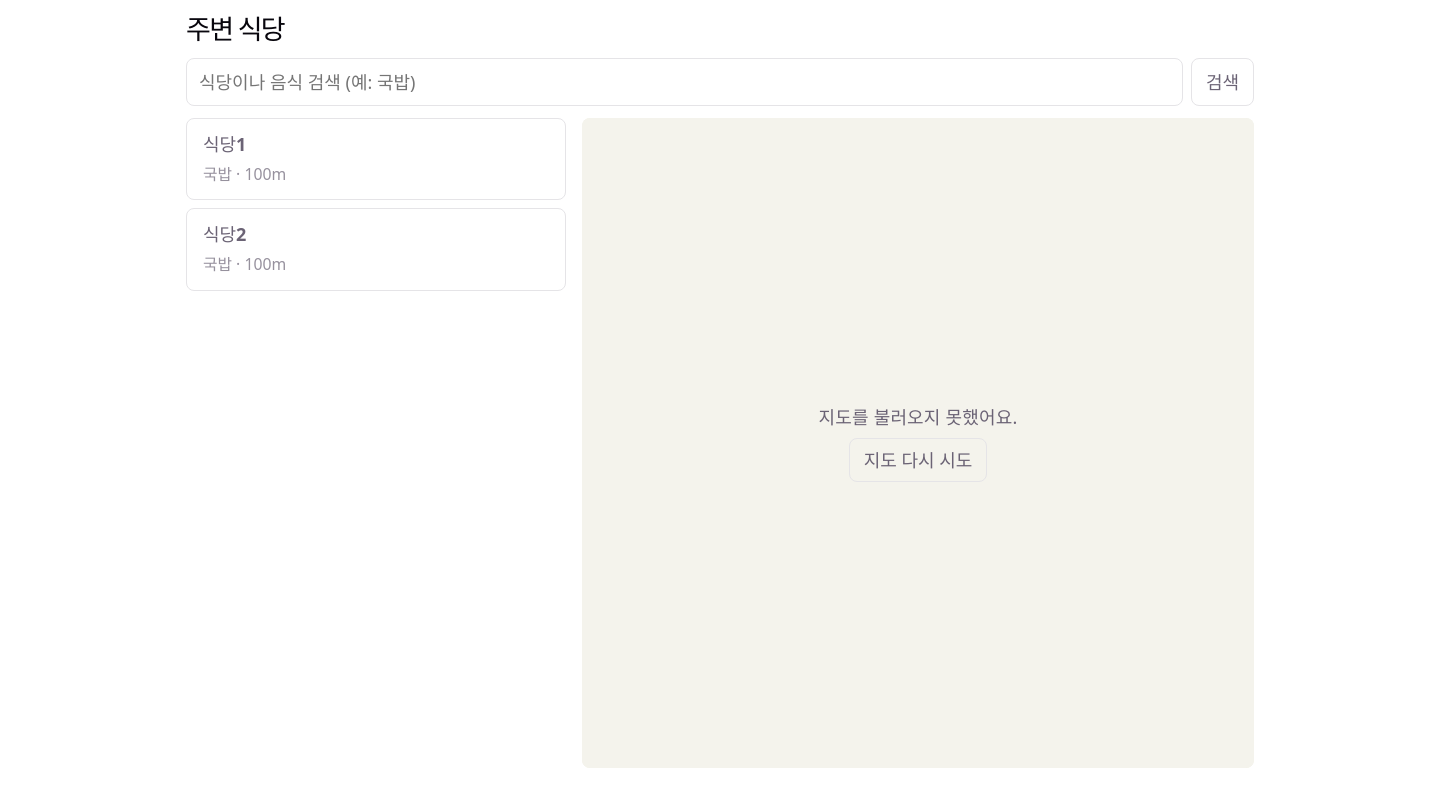
Test: App › 지도 다시 시도를 누르면 지도를 다시 불러오고 성공하면 마커를 표시한다
Click the button "지도 다시 시도" at point(918, 460), box [849,438,987,482]
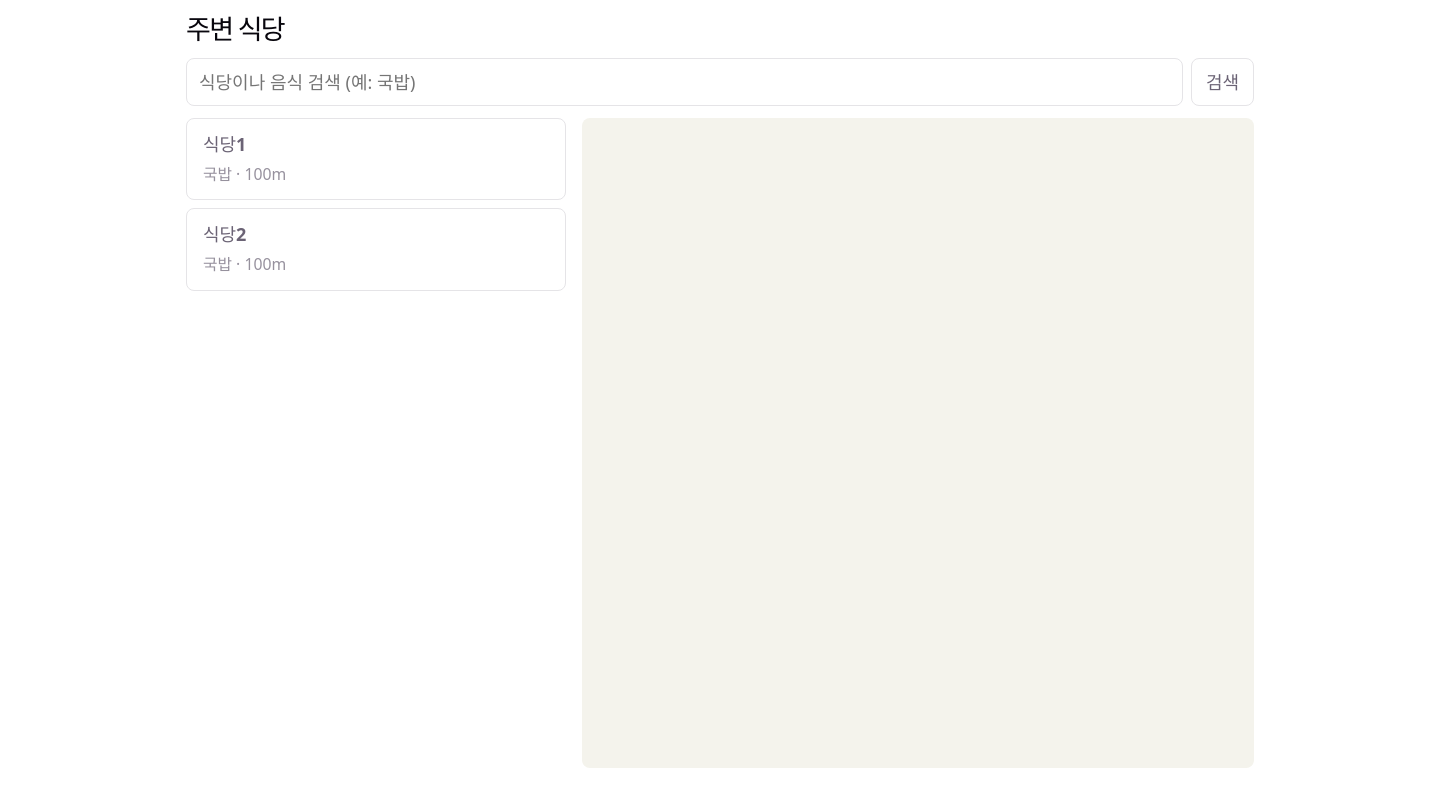
Expected: the text "지도를 불러오지 못했어요." is gone
